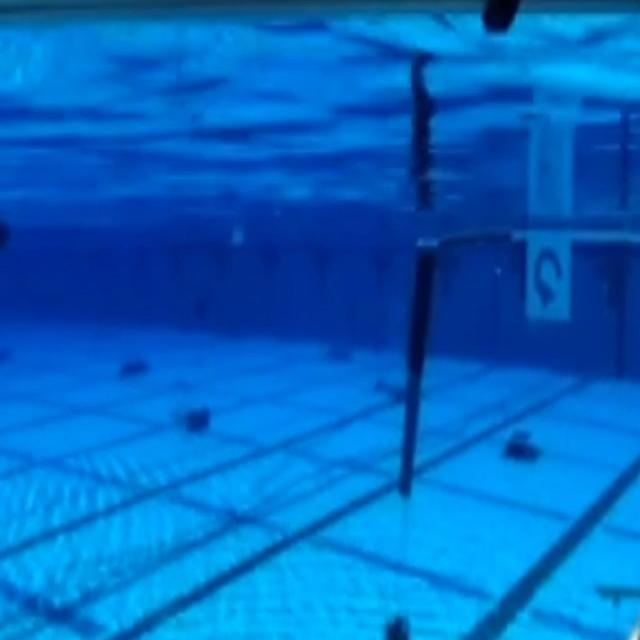Gate: (389, 204, 640, 508)
